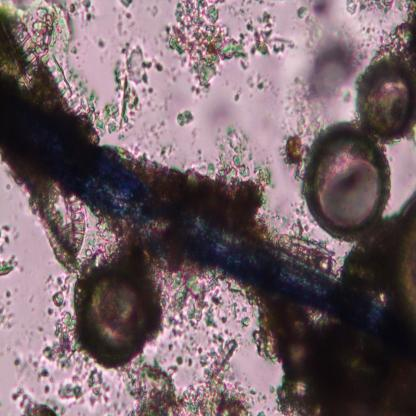Background material: (252, 293, 414, 416), (159, 0, 248, 96), (297, 22, 372, 106), (160, 270, 250, 338), (177, 163, 262, 226), (185, 339, 245, 416), (212, 123, 276, 193), (37, 273, 76, 370), (122, 359, 186, 416), (91, 68, 137, 138), (259, 192, 313, 249), (276, 79, 329, 136), (370, 0, 416, 65), (121, 45, 166, 109), (243, 10, 297, 56), (10, 386, 68, 416), (137, 122, 178, 164), (73, 360, 112, 404), (162, 338, 212, 370), (0, 217, 20, 278), (294, 0, 333, 30), (245, 386, 281, 416), (280, 135, 308, 168), (10, 350, 36, 382), (56, 383, 86, 408), (343, 0, 378, 21), (66, 0, 96, 24), (0, 290, 15, 332), (115, 10, 136, 36), (248, 74, 274, 94), (184, 80, 206, 100), (174, 108, 195, 126), (226, 1, 245, 18), (144, 3, 160, 20), (194, 146, 206, 166), (240, 0, 266, 8), (115, 0, 134, 10), (45, 376, 54, 396), (233, 86, 242, 102), (98, 39, 108, 52), (5, 182, 12, 191)
Cotton: (0, 74, 416, 338)
Diatom: (304, 120, 392, 242), (3, 13, 91, 115), (74, 273, 165, 362), (34, 176, 89, 264), (358, 59, 416, 136), (389, 201, 416, 317)
